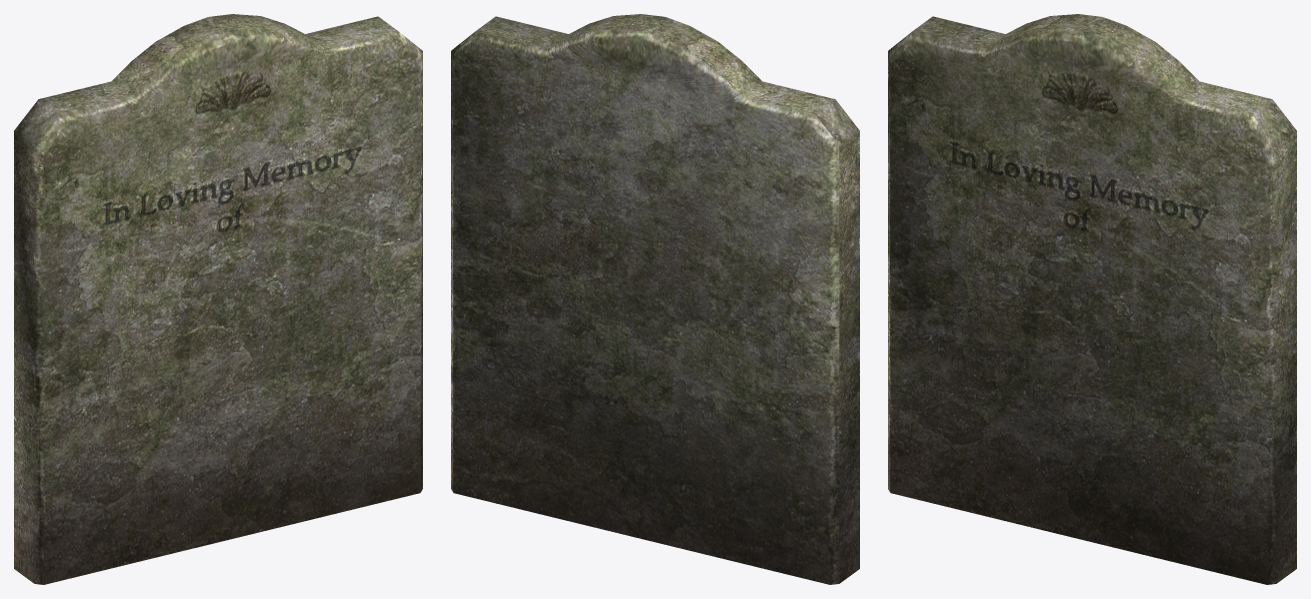
Rendered from grave_marie.dae.
3 views of the same model, side by side, from view 1: azimuth 30°, elevation 25°; view 2: azimuth 150°, elevation 25°; view 3: azimuth 330°, elevation 25° (orthographic).
Parts seen in each view (by area): view 1: pCube1; view 2: pCube1; view 3: pCube1.
Part boxes in pixels (x1,y1,x2,y2): pCube1: (14, 14, 422, 584); pCube1: (451, 14, 859, 584); pCube1: (888, 14, 1296, 584).
Bounding box in the file's own units: 0.7056 × 0.8764 × 0.0856.
